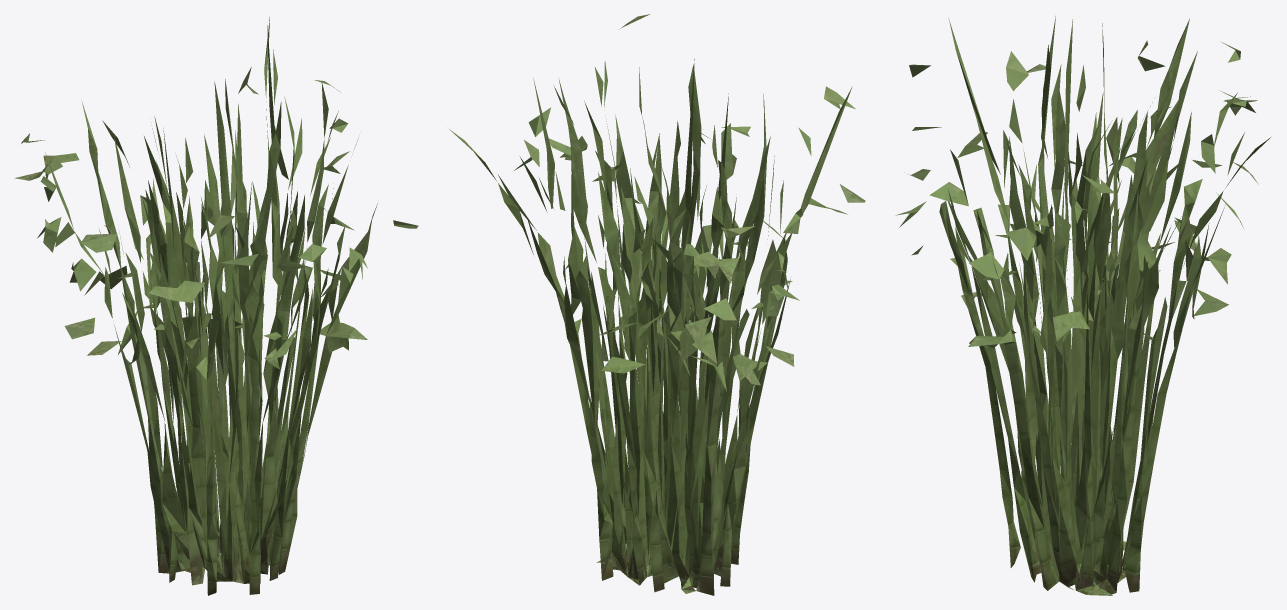
File: bamboo.glb
3 renders of one model, left to right at view 1: azimuth 30°, elevation 25°; view 2: azimuth 150°, elevation 25°; view 3: azimuth 270°, elevation 25°, orthographic. The views are drawn at different scales.
Visible parts, largest first — view 1: output_unwrapped; view 2: output_unwrapped; view 3: output_unwrapped.
Part boxes in pixels (left/top/right/bottom): output_unwrapped: left=14, top=17, right=418, bottom=595; output_unwrapped: left=449, top=14, right=865, bottom=595; output_unwrapped: left=895, top=16, right=1270, bottom=595.
Size of the model in its own units: 5.82 by 9 by 5.64.
Materials: 1 (1 with a texture image).
